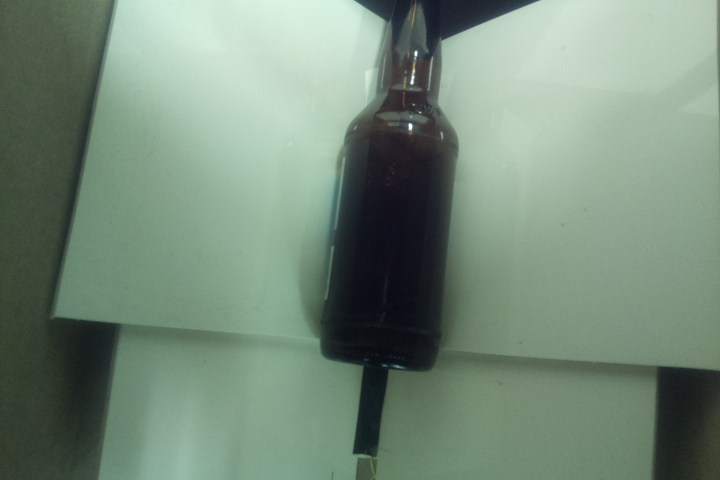makju: (316, 1, 462, 375)
